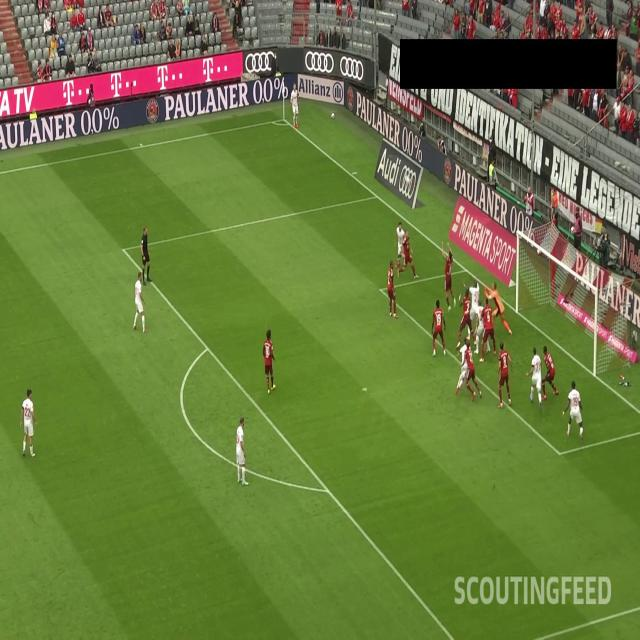ball: (403, 172, 412, 188)
player: (481, 278, 515, 337), (437, 234, 458, 312), (462, 273, 488, 336), (19, 388, 39, 459), (563, 380, 584, 444), (427, 297, 448, 360), (496, 338, 514, 409), (457, 288, 478, 347), (234, 412, 250, 488), (262, 323, 279, 394), (524, 346, 543, 408), (540, 342, 560, 399), (471, 302, 492, 356), (463, 343, 482, 401), (480, 304, 499, 356), (385, 259, 400, 323), (400, 231, 418, 282), (133, 272, 147, 334), (456, 336, 471, 393), (287, 83, 302, 130), (395, 214, 406, 270)
referee: (139, 221, 153, 285)
